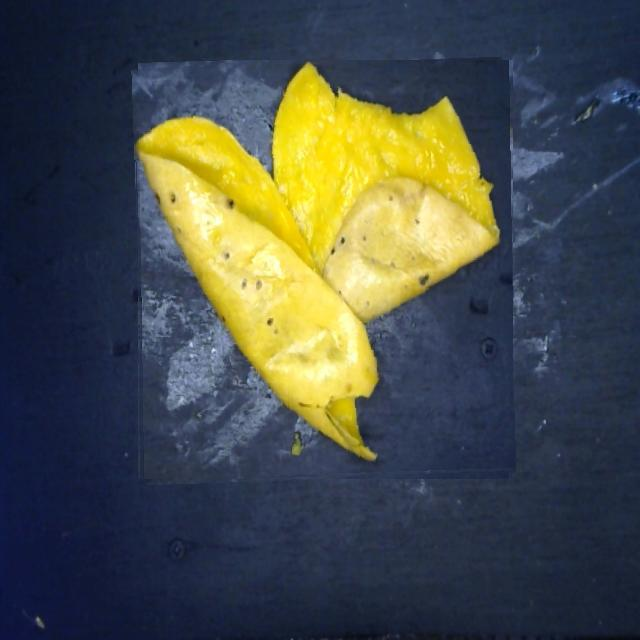biodegradable: (134, 60, 513, 482)
